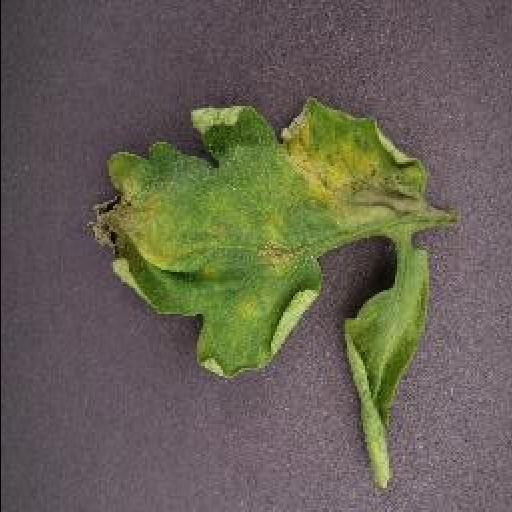disease_tomato: (88, 100, 438, 490)
